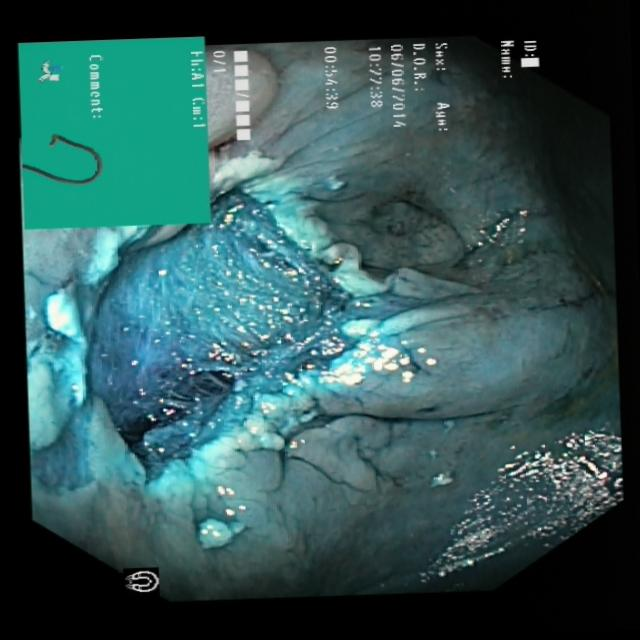dyed-resection-margins: (24, 145, 444, 504)
